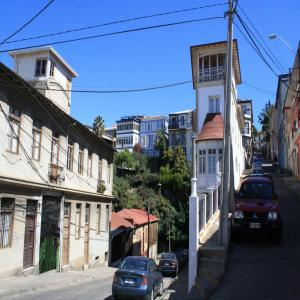Vehicle-registration-plate: (250, 221, 261, 230), (126, 277, 135, 284), (166, 262, 170, 269)
